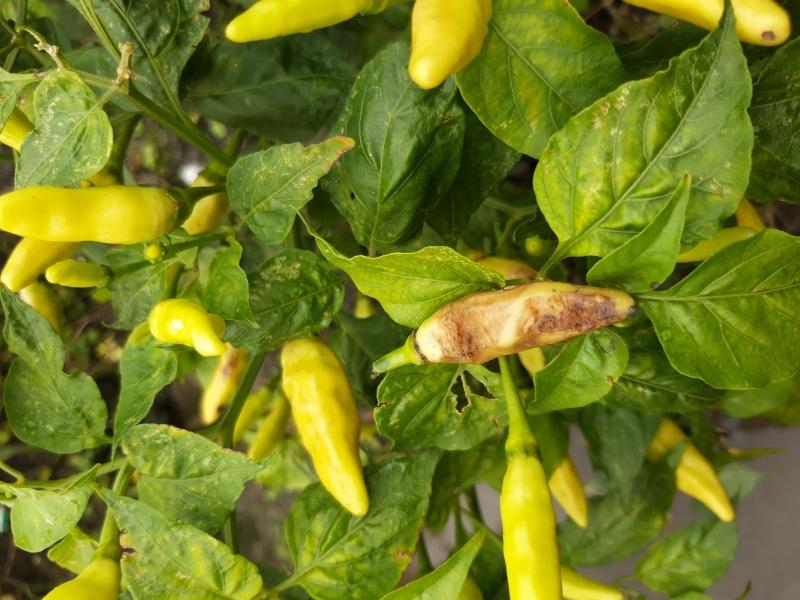antraknosa: (411, 278, 637, 369)
cabai_normal: (279, 333, 372, 518), (1, 181, 177, 247), (640, 413, 737, 524), (498, 456, 570, 600), (406, 1, 495, 89), (225, 1, 377, 44), (149, 297, 226, 357)
